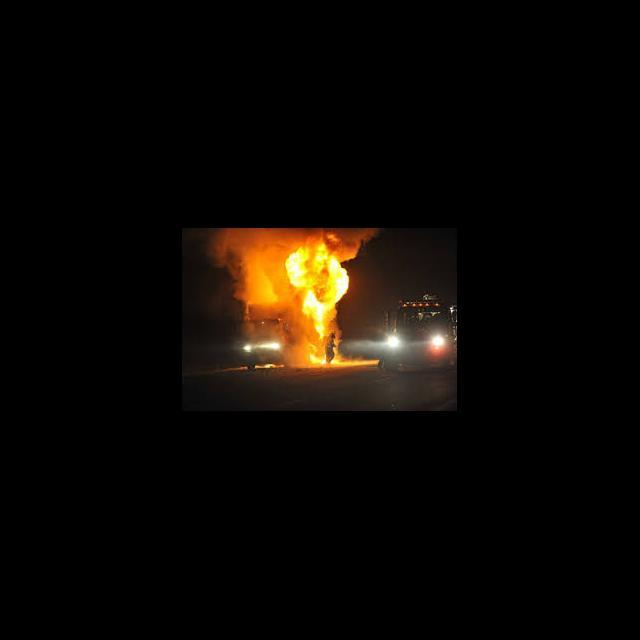Fire: (285, 230, 352, 366), (253, 362, 281, 368)
